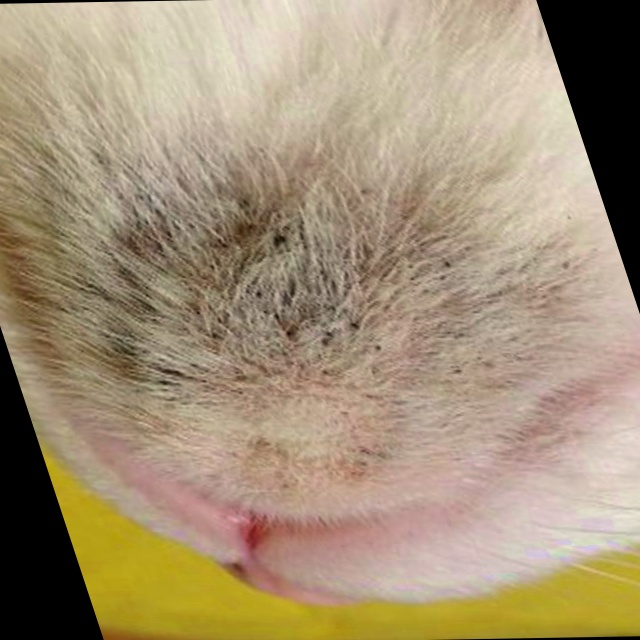acne: (80, 192, 508, 426)
